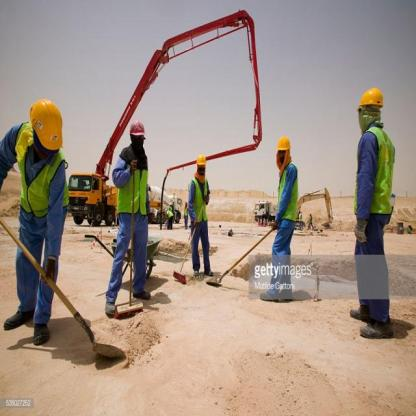person: (0, 97, 72, 354), (350, 81, 402, 349), (103, 115, 162, 321), (263, 132, 301, 304), (182, 153, 219, 281)
red-helm: (126, 116, 148, 138)
vest-helm: (11, 118, 72, 218), (349, 120, 398, 217), (113, 144, 152, 218), (272, 160, 303, 222), (184, 174, 210, 224)
yellow-helm: (22, 97, 67, 155), (352, 86, 386, 114), (274, 134, 292, 152), (194, 151, 208, 168)
